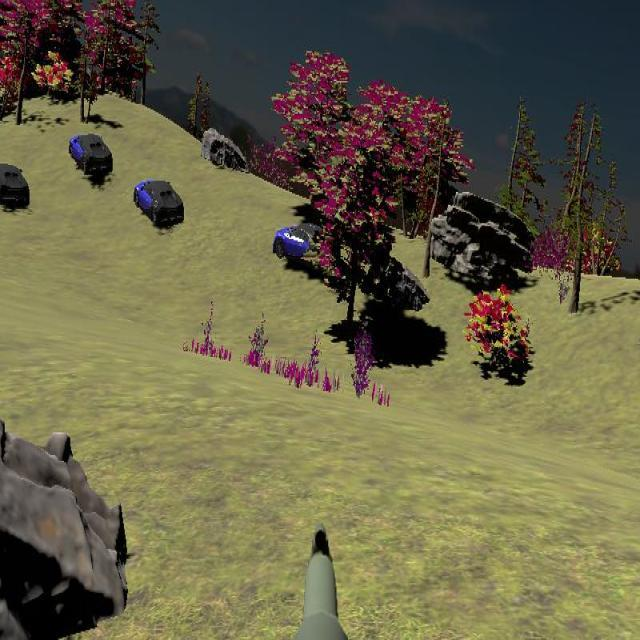car: (134, 177, 184, 228), (69, 131, 113, 176), (0, 161, 30, 209)
